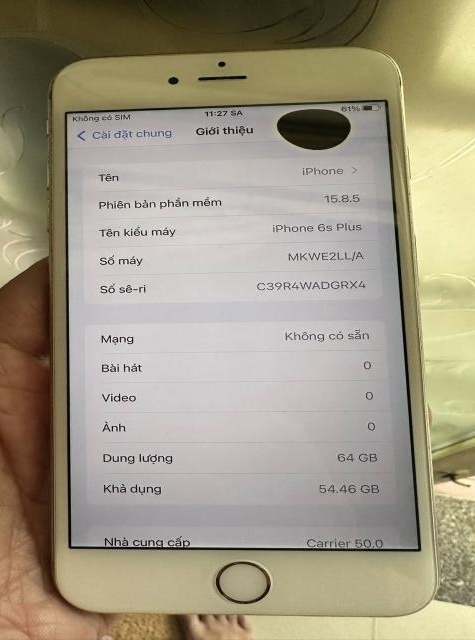screen_defect: (269, 97, 357, 153)
